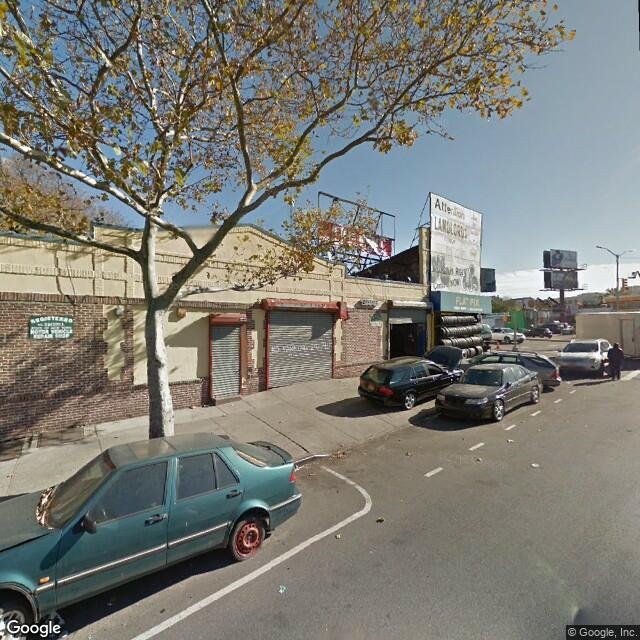litter: (322, 449, 372, 461), (273, 582, 306, 599), (371, 512, 400, 527), (326, 529, 352, 543)
